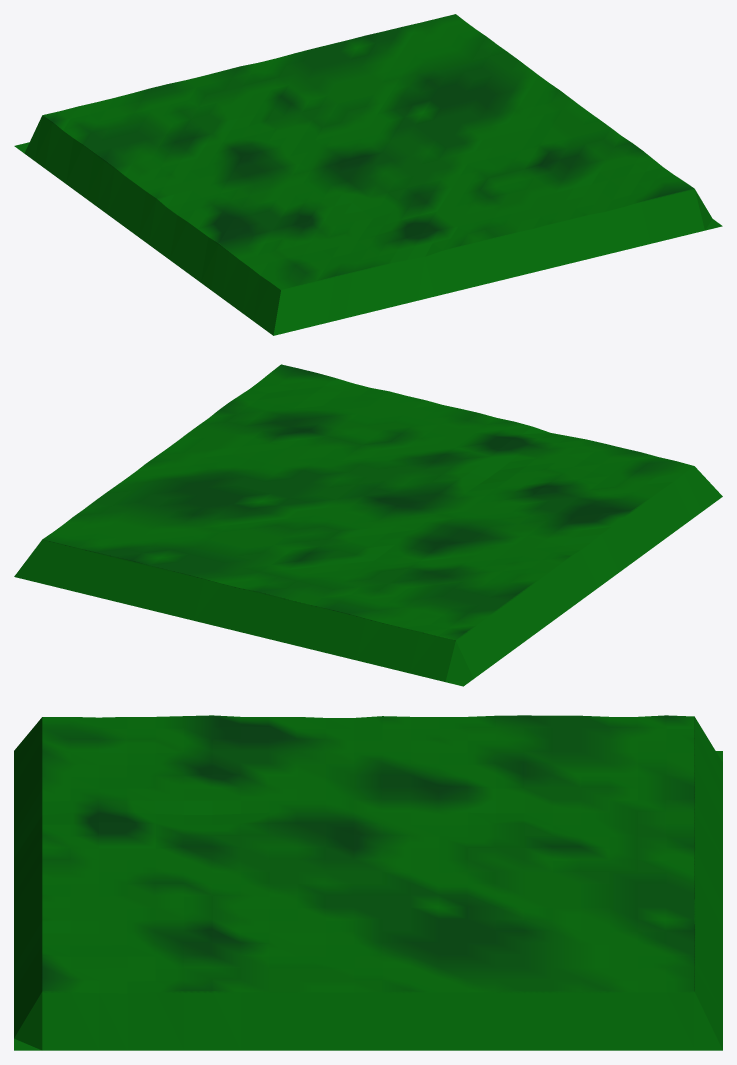
Rendered from Tile3.fbx.
The picture shows the model from 3 angles, top to bottom: view 1: azimuth 30°, elevation 25°; view 2: azimuth 150°, elevation 25°; view 3: azimuth 270°, elevation 25°; orthographic projection. The views are drawn at different scales.
Parts seen in each view (by area): view 1: ImageToStl.com_3; view 2: ImageToStl.com_3; view 3: ImageToStl.com_3.
Part boxes in pixels (x1,y1,x2,y2): ImageToStl.com_3: (14,14,722,335); ImageToStl.com_3: (14,364,722,686); ImageToStl.com_3: (14,715,722,1050).
Bounding box in the file's own units: 10417 × 788 × 10417.
1 material, 1 textured.
